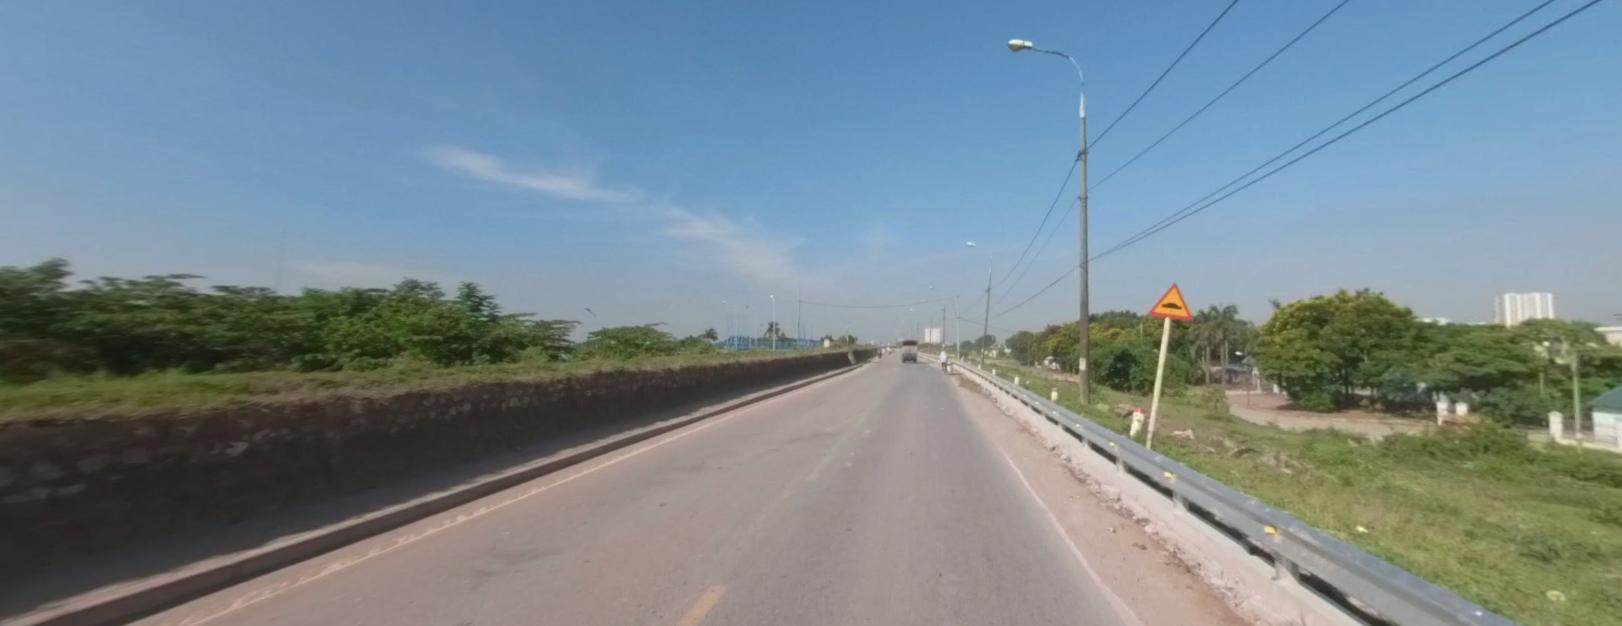Nguy hiem: (1146, 279, 1192, 320)
